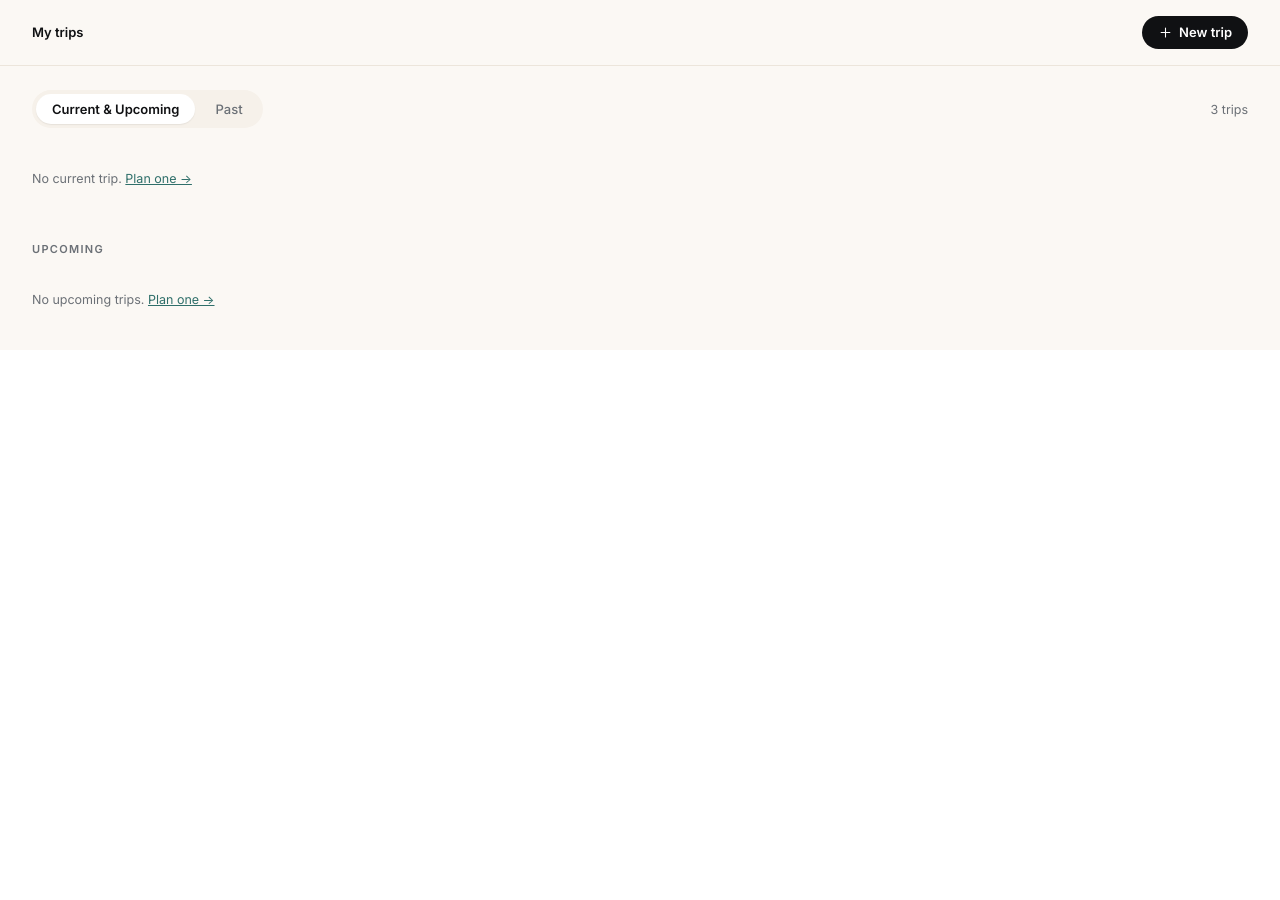
Test: TripsDashboard — Past tab › defaults to newest-first and groups trips by year
Click the tab "Past": (229, 109) [200,94,259,124]
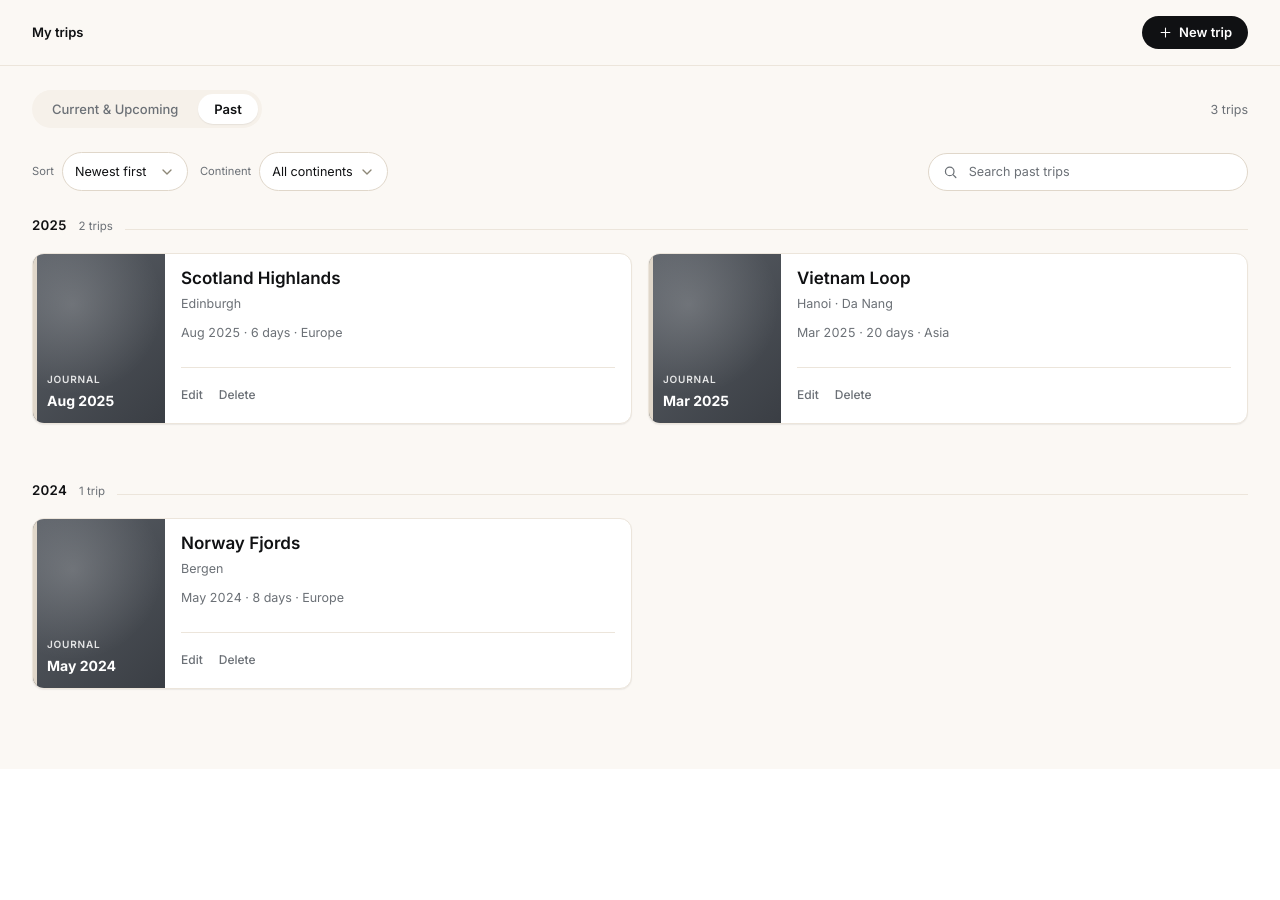
Expected: the text "2025" is shown, [32,215,66,236]
Expected: the text "2024" is shown, [32,480,67,501]
